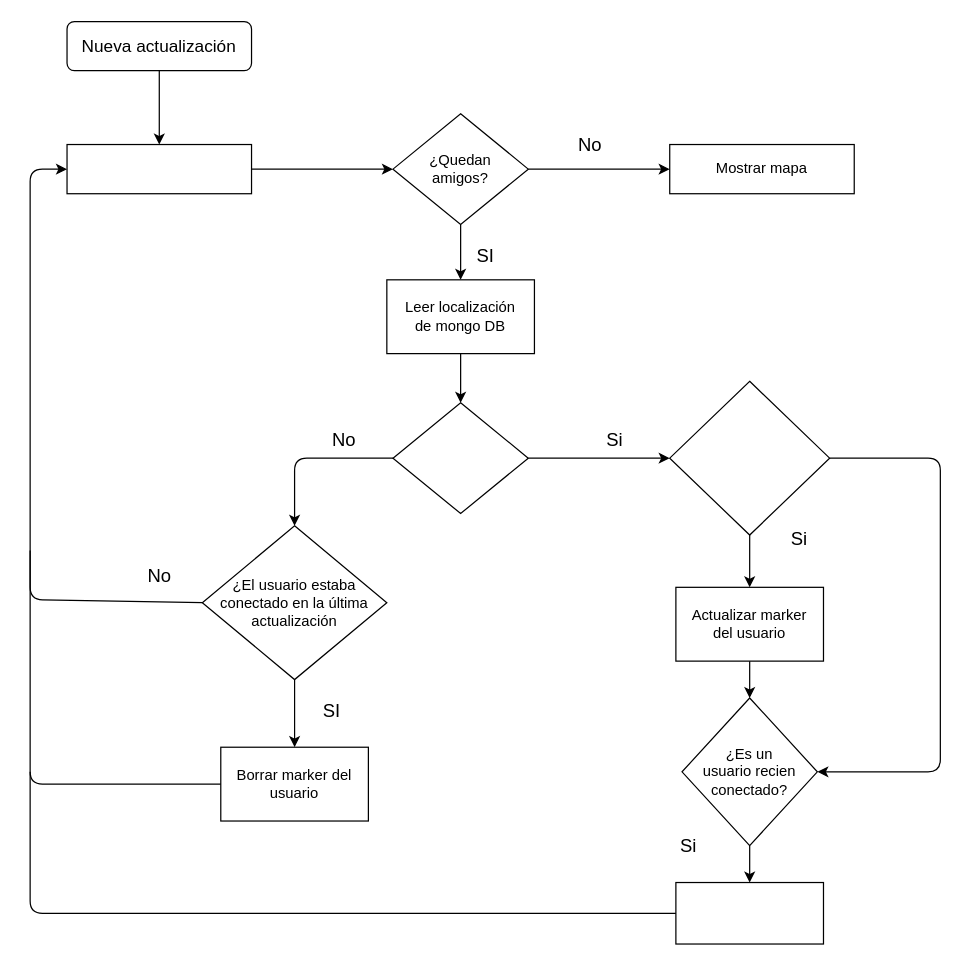
Image size: 972x966. Some labels were removed from this diagram. Here are the shapes that lost their labels. From the top down, the centre of each, then its label:
point 159,168: Lista de amigos
point 460,458: ¿Se ha podido obtener?
point 749,457: ¿Ha cambiado respecto la última actualización?
point 749,912: Mostrar notificación
